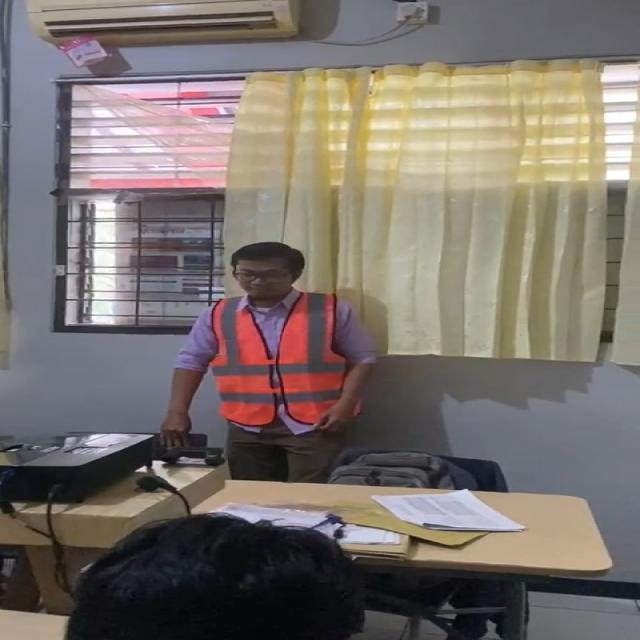no-helmet: (228, 240, 306, 284)
vest: (201, 291, 365, 432)
